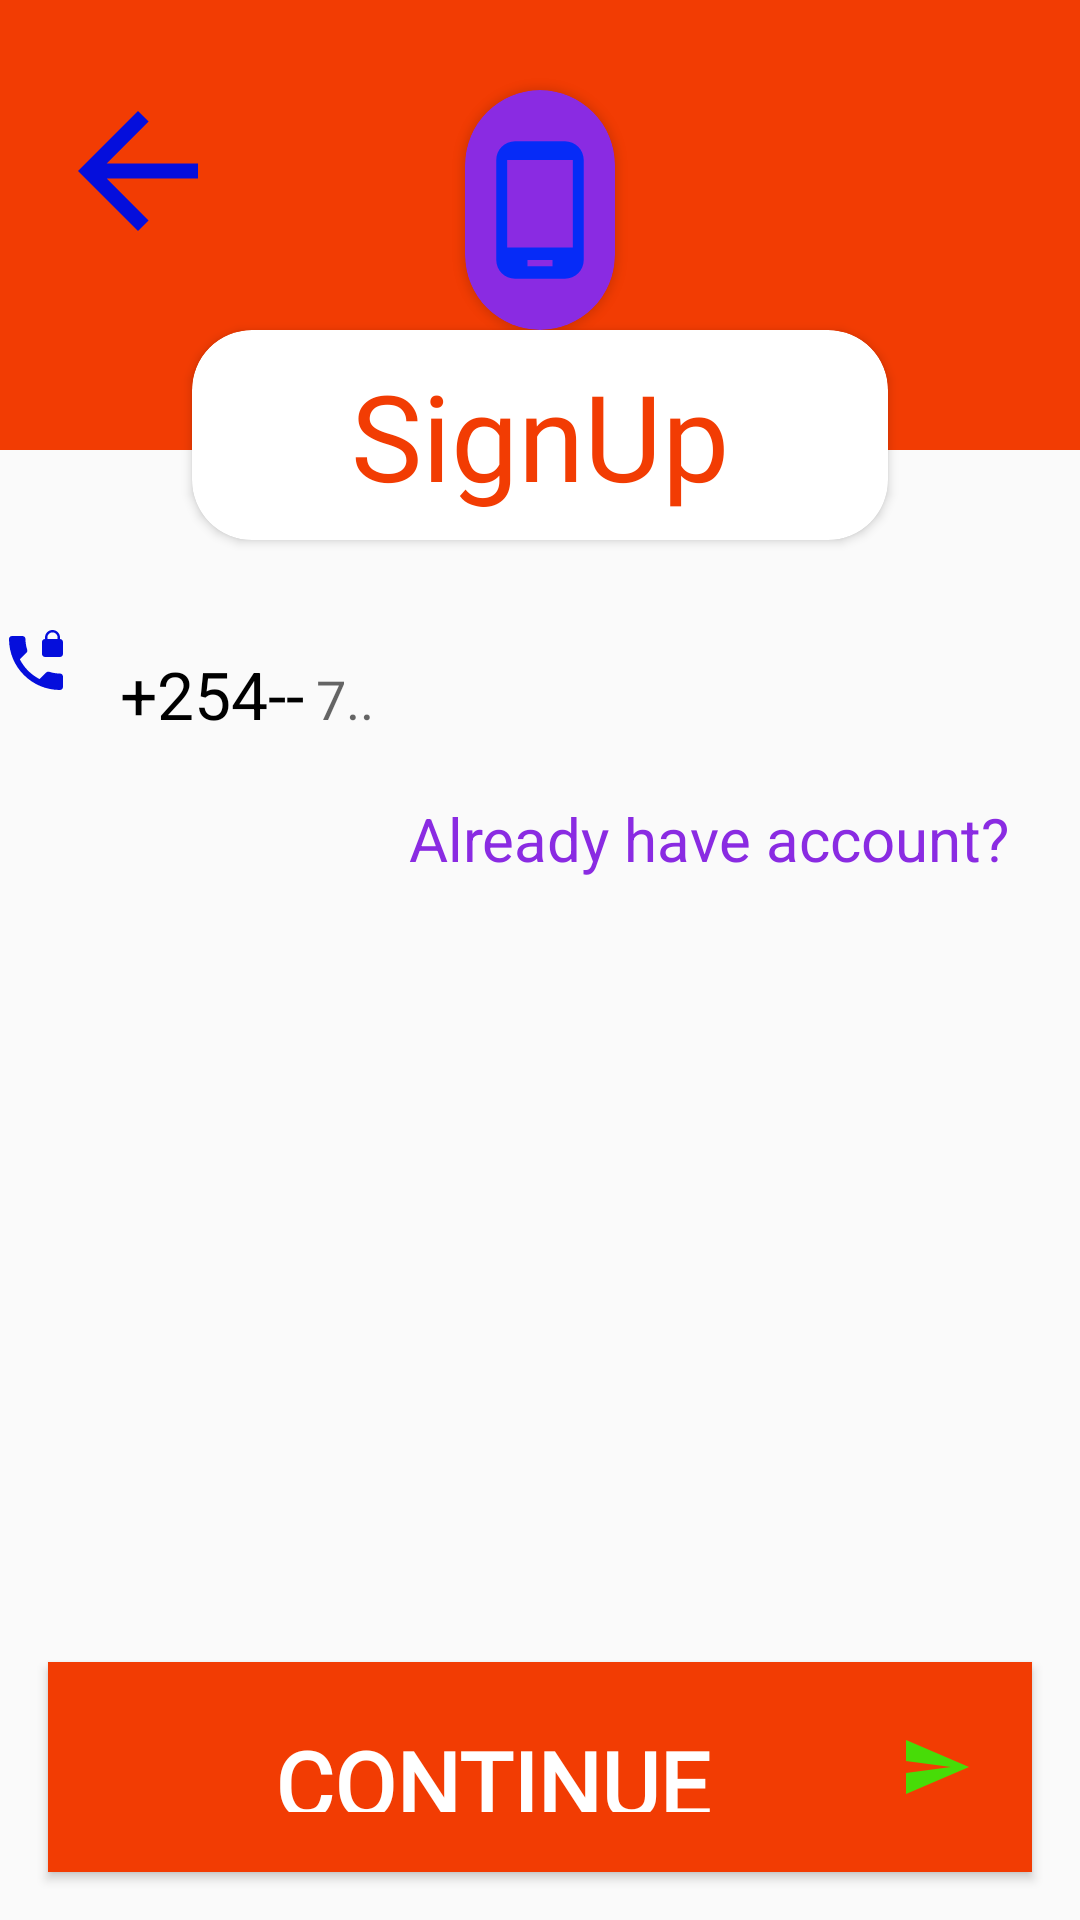

Named icons in this screenshot (1080*1920) and their bounding boxes, (x1, y1, x2, y2):
back: (78, 111, 198, 231)
phone: (465, 90, 615, 330)
